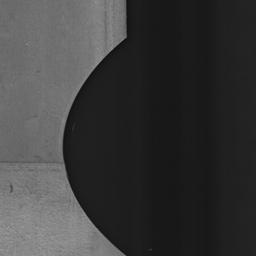Crescent gap: (63, 40, 125, 255)
